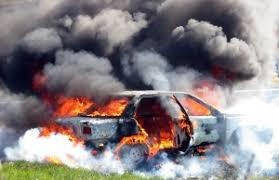fire: (40, 80, 131, 141)
